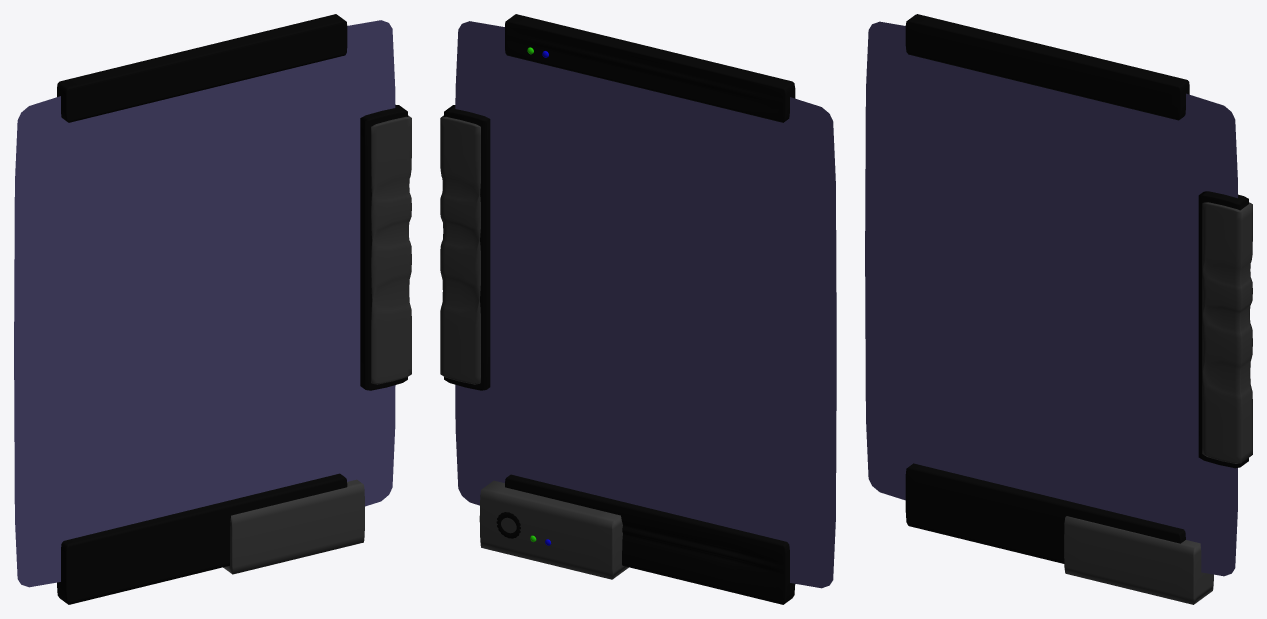
Rendered from NanoClip_Export.fbx.
The picture shows the model from 3 angles, left to right: view 1: azimuth 30°, elevation 25°; view 2: azimuth 150°, elevation 25°; view 3: azimuth 330°, elevation 25°; orthographic projection. The views are drawn at different scales.
Visible parts, largest first — view 1: pCube2; view 2: pCube2; view 3: pCube2.
Part boxes in pixels (x1,y1,x2,y2): pCube2: (14, 14, 411, 604); pCube2: (440, 14, 836, 604); pCube2: (865, 14, 1252, 604).
Size of the model in its own units: 4.32 by 5.54 by 0.4191.
